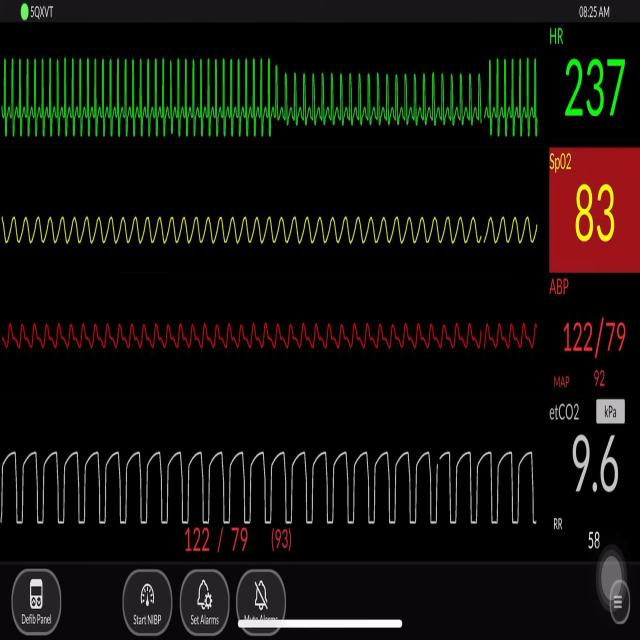danger: (5, 44, 285, 152), (292, 54, 483, 141), (488, 32, 545, 155)
